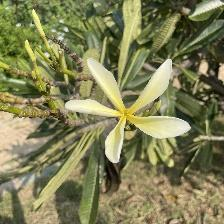champaka: (68, 57, 193, 168)
